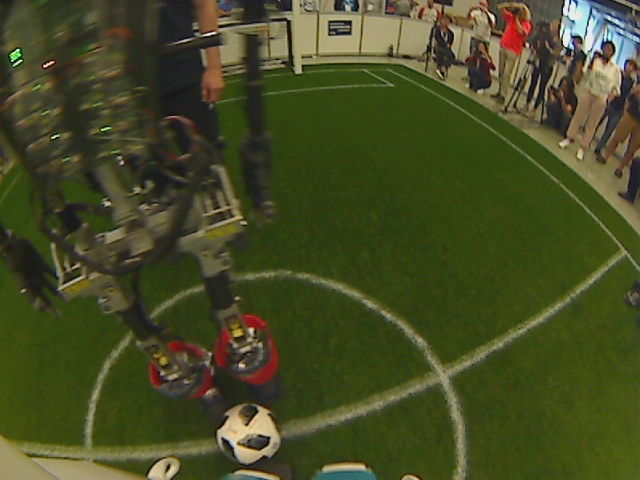ball: (213, 400, 285, 469)
